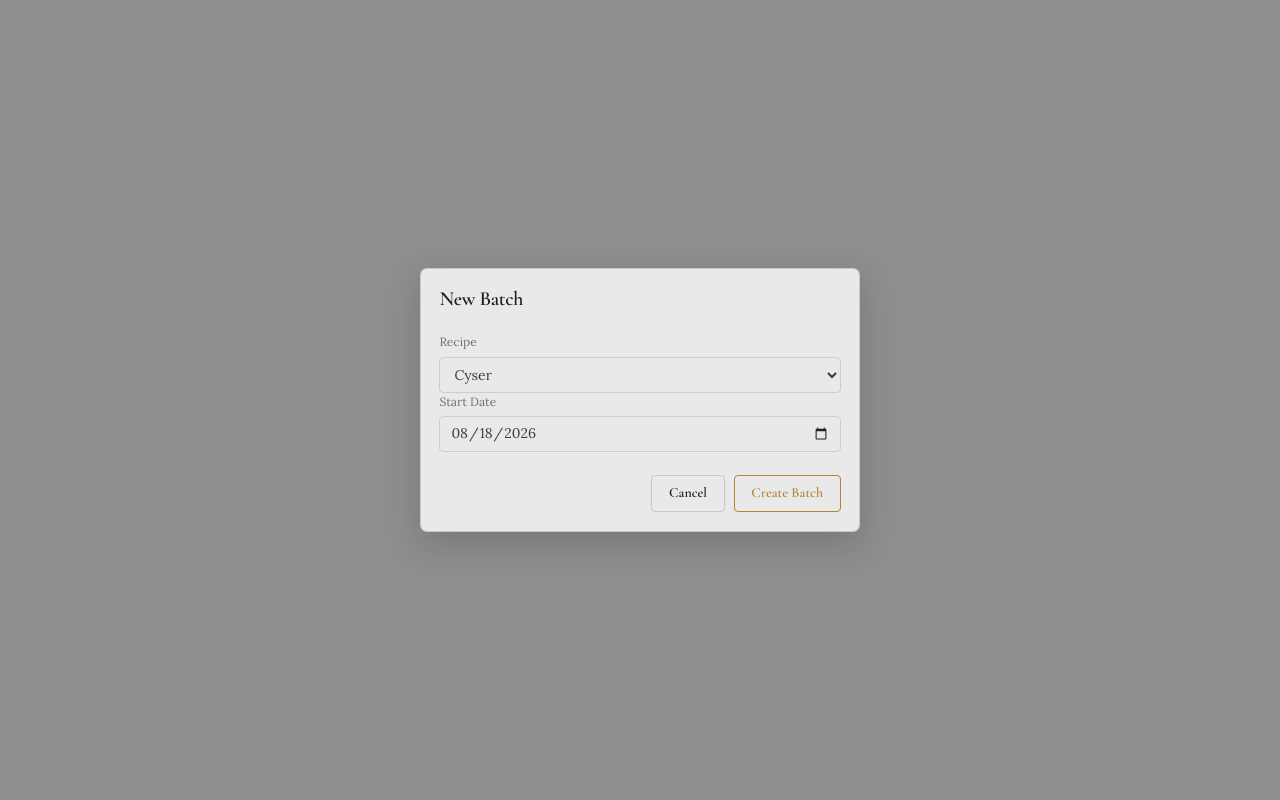
Test case: NewBatchModal › shows the server's error message on a failed submit
Click the button "Create Batch" at (787, 494), box [734,475,841,512]
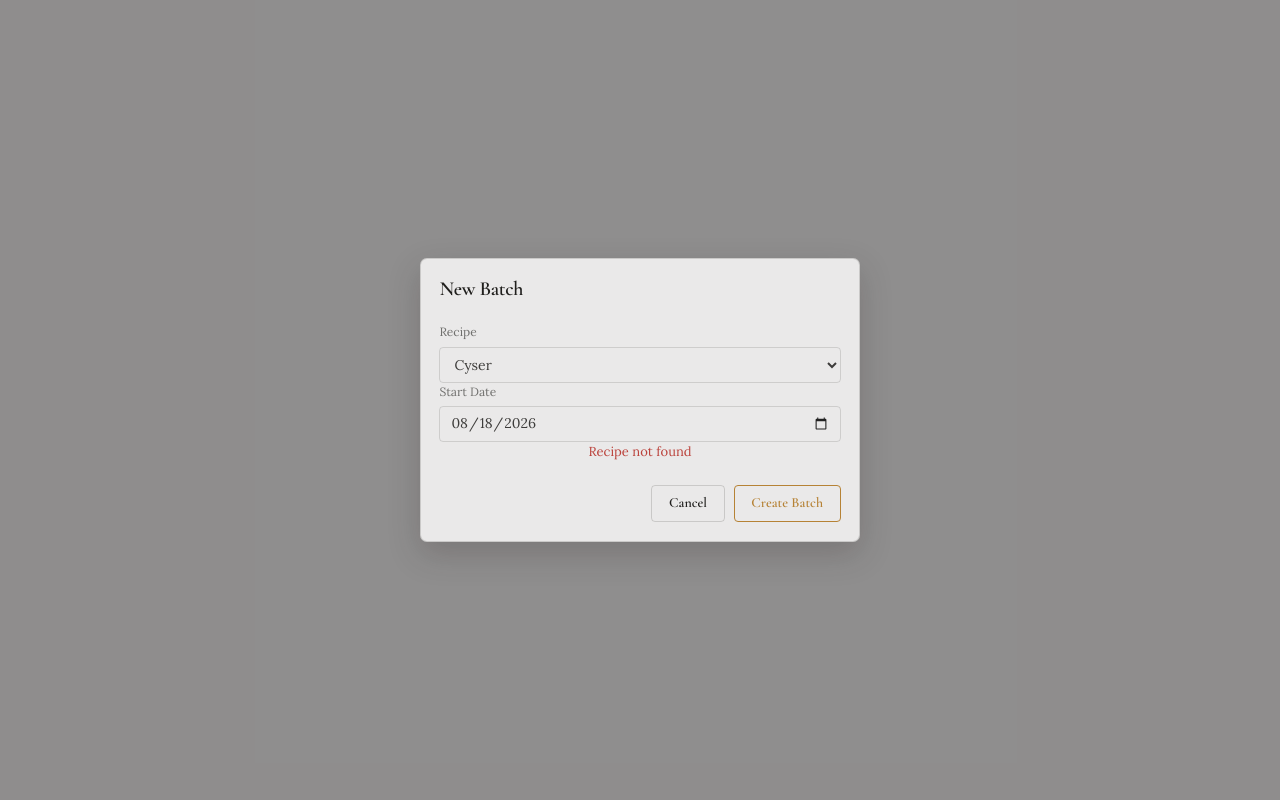
Expected: the text "Recipe not found" is shown, [588,443,692,460]
